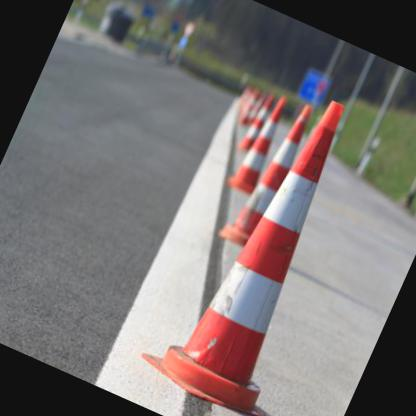cone: (131, 68, 402, 415), (218, 94, 324, 256), (226, 87, 296, 198), (238, 83, 281, 156)
